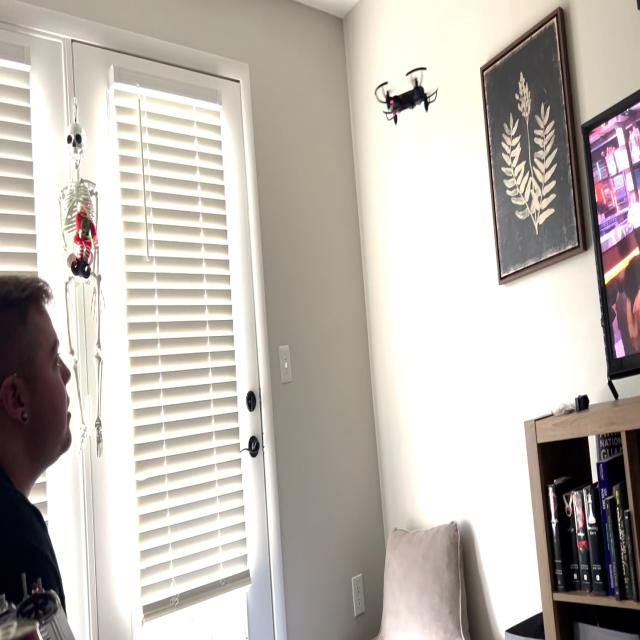drone: (367, 55, 442, 133)
